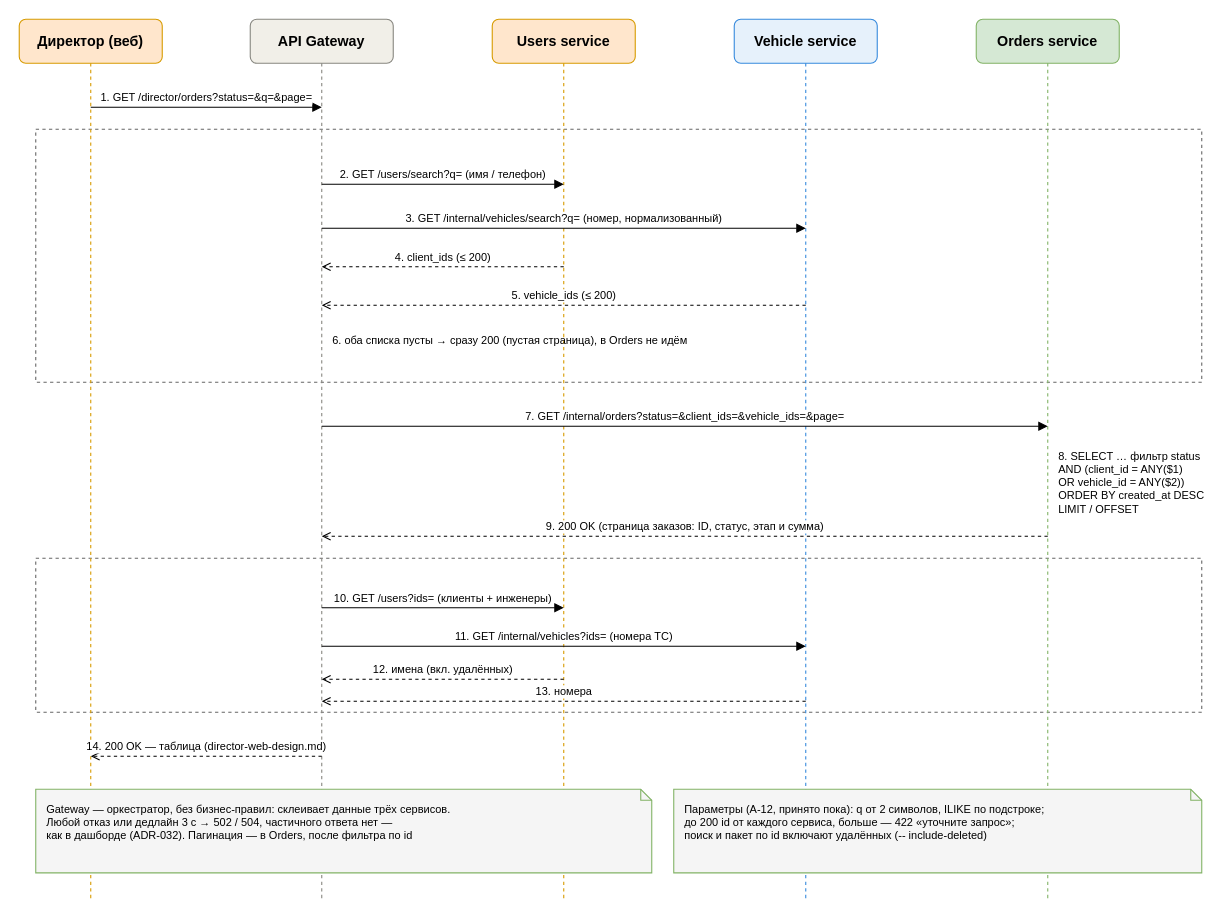
This 1224x920 diagram has some shape labels left out. The box of each missing label's shape, as (x1, y1, x2, y2) in pixels:
opt: [q задана] — строка поиска → id (ADR-039): (35, 128, 1202, 382)
par: имена для страницы — пакетные запросы по id: (35, 557, 1202, 712)
